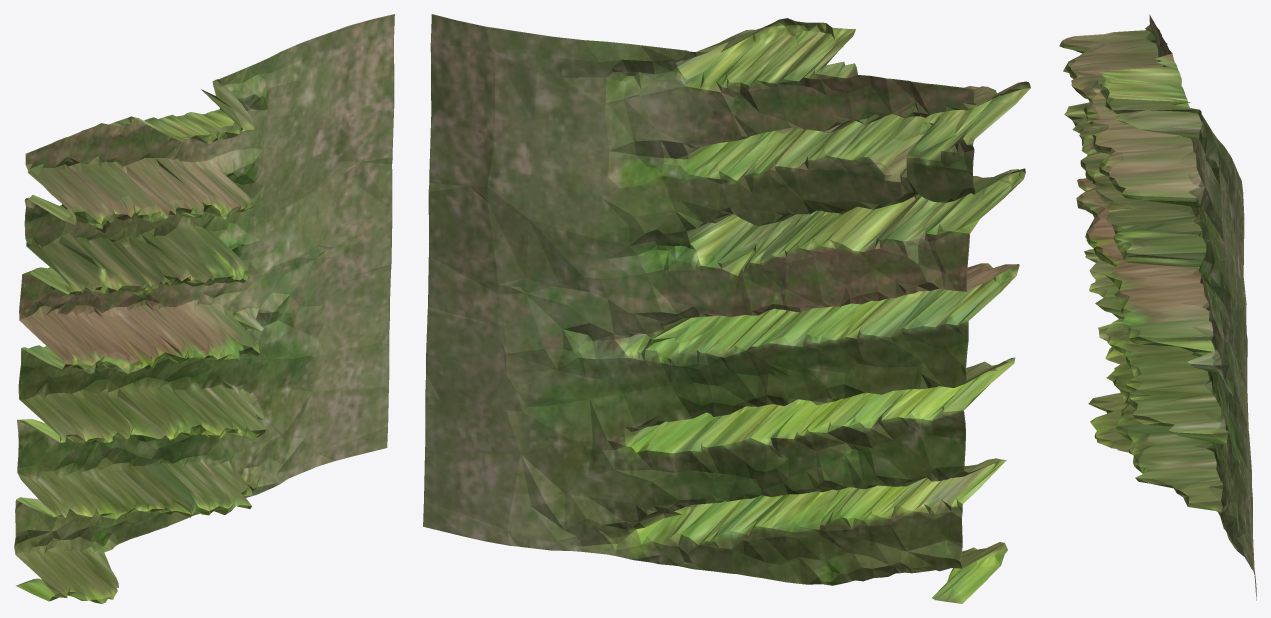
Rendered from map_250_10.obj.
3 renders of one model, left to right at view 1: azimuth 30°, elevation 25°; view 2: azimuth 150°, elevation 25°; view 3: azimuth 270°, elevation 25°, orthographic. The views are drawn at different scales.
Visible parts, largest first — view 1: grp1; view 2: grp1; view 3: grp1.
Part boxes in pixels (x1,y1,x2,y2): grp1: (14,14,394,603); grp1: (423,14,1030,603); grp1: (1059,14,1256,600).
Size of the model in its own units: 10 by 10 by 4.45.
Materials: 1 (1 with a texture image).
